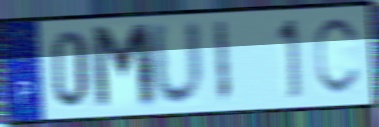0: (49, 28, 90, 112)
1: (276, 17, 304, 102)
C: (313, 15, 362, 99)
I: (212, 18, 233, 107)
M: (89, 20, 160, 113)
U: (148, 18, 208, 111)
